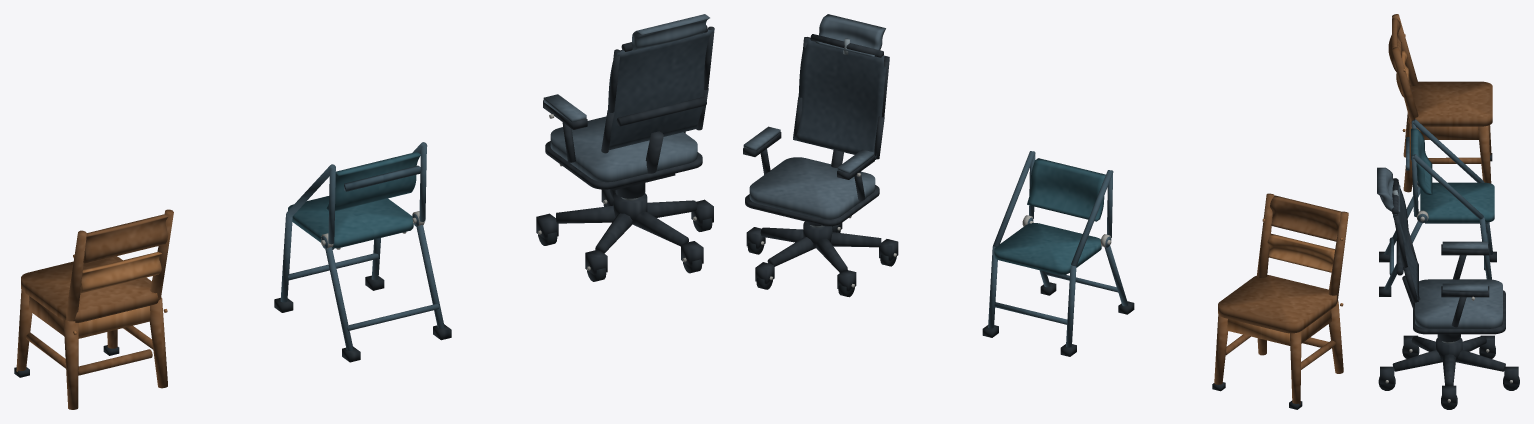
3 views of the same model, side by side, from view 1: azimuth 30°, elevation 25°; view 2: azimuth 150°, elevation 25°; view 3: azimuth 270°, elevation 25° (orthographic). The views are drawn at different scales.
Parts seen in each view (by area): view 1: OFFICE_VIS_Office_BreathableBack_OfficeMesh, OFFICE_VIS_Office_SeatCushion_OfficeFabric, DINING_VIS_Dining_ContouredSeat_WalnutTimber, FOLDING_VIS_Fold_PressedSeat_FoldSeatVinyl, OFFICE_VIS_Office_BaseSpoke_DarkPolymer, FOLDING_VIS_Fold_BackCushion_FoldSeatVinyl, DINING_VIS_Dining_Upper_Backrest_WalnutTimber, DINING_VIS_Dining_RearLeg_WalnutTimber, OFFICE_VIS_Office_CasterFork_DarkPolymer, DINING_VIS_Dining_Lower_Backrest_PaleWoodEdge, DINING_VIS_Dining_BackStile_WalnutTimber, FOLDING_VIS_Fold_RearLeg_PowderBlueSteel (+13 smaller); view 2: OFFICE_VIS_Office_BreathableBack_OfficeMesh, OFFICE_VIS_Office_SeatCushion_OfficeFabric, DINING_VIS_Dining_ContouredSeat_WalnutTimber, FOLDING_VIS_Fold_PressedSeat_FoldSeatVinyl, FOLDING_VIS_Fold_BackCushion_FoldSeatVinyl, OFFICE_VIS_Office_BaseSpoke_DarkPolymer, DINING_VIS_Dining_Upper_Backrest_WalnutTimber, OFFICE_VIS_Office_Headrest_OfficeFabric, DINING_VIS_Dining_Lower_Backrest_PaleWoodEdge, DINING_VIS_Dining_BackStile_WalnutTimber, DINING_VIS_Dining_FrontLeg_WalnutTimber, OFFICE_VIS_Office_CasterFork_DarkPolymer (+8 smaller); view 3: DINING_VIS_Dining_ContouredSeat_WalnutTimber, OFFICE_VIS_Office_SeatCushion_OfficeFabric, FOLDING_VIS_Fold_PressedSeat_FoldSeatVinyl, OFFICE_VIS_Office_BaseSpoke_DarkPolymer, OFFICE_VIS_Office_CasterFork_DarkPolymer, DINING_VIS_Dining_BackStile_WalnutTimber, FOLDING_VIS_Fold_MainBackTube_PowderBlueSteel, OFFICE_VIS_Office_ArmrestPadding_OfficeFabric, OFFICE_VIS_Office_BreathableBack_OfficeMesh, FOLDING_VIS_Fold_BackCushion_FoldSeatVinyl, OFFICE_VIS_Office_PolymerSeatShell_DarkPolymer, DINING_VIS_Dining_SeatApron_Long_WalnutTimber (+19 smaller).
Boxes of the visible parts, x1,y1,x2,y2 form: OFFICE_VIS_Office_BreathableBack_OfficeMesh: (608, 29, 714, 150); OFFICE_VIS_Office_SeatCushion_OfficeFabric: (550, 116, 697, 182); DINING_VIS_Dining_ContouredSeat_WalnutTimber: (21, 256, 158, 322); FOLDING_VIS_Fold_PressedSeat_FoldSeatVinyl: (288, 196, 413, 248); OFFICE_VIS_Office_BaseSpoke_DarkPolymer: (556, 189, 697, 253); FOLDING_VIS_Fold_BackCushion_FoldSeatVinyl: (326, 152, 420, 211); DINING_VIS_Dining_Upper_Backrest_WalnutTimber: (83, 214, 168, 263); DINING_VIS_Dining_RearLeg_WalnutTimber: (63, 297, 167, 409); OFFICE_VIS_Office_CasterFork_DarkPolymer: (536, 189, 713, 275); DINING_VIS_Dining_Lower_Backrest_PaleWoodEdge: (80, 252, 161, 293); DINING_VIS_Dining_BackStile_WalnutTimber: (66, 209, 173, 321); FOLDING_VIS_Fold_RearLeg_PowderBlueSteel: (325, 225, 444, 350); OFFICE_VIS_Office_BreathableBack_OfficeMesh: (793, 37, 889, 159); OFFICE_VIS_Office_SeatCushion_OfficeFabric: (749, 157, 875, 219); DINING_VIS_Dining_ContouredSeat_WalnutTimber: (1218, 275, 1336, 333); FOLDING_VIS_Fold_PressedSeat_FoldSeatVinyl: (994, 223, 1101, 274); FOLDING_VIS_Fold_BackCushion_FoldSeatVinyl: (1027, 158, 1105, 221); OFFICE_VIS_Office_BaseSpoke_DarkPolymer: (760, 226, 881, 272); DINING_VIS_Dining_Upper_Backrest_WalnutTimber: (1270, 195, 1341, 241); OFFICE_VIS_Office_Headrest_OfficeFabric: (815, 14, 885, 57); DINING_VIS_Dining_Lower_Backrest_PaleWoodEdge: (1267, 233, 1334, 272); DINING_VIS_Dining_BackStile_WalnutTimber: (1257, 193, 1348, 302); DINING_VIS_Dining_FrontLeg_WalnutTimber: (1214, 315, 1301, 404); OFFICE_VIS_Office_CasterFork_DarkPolymer: (746, 223, 898, 291); DINING_VIS_Dining_ContouredSeat_WalnutTimber: (1408, 81, 1492, 126); OFFICE_VIS_Office_SeatCushion_OfficeFabric: (1415, 279, 1502, 328); FOLDING_VIS_Fold_PressedSeat_FoldSeatVinyl: (1420, 182, 1494, 222); OFFICE_VIS_Office_BaseSpoke_DarkPolymer: (1392, 336, 1505, 385); OFFICE_VIS_Office_CasterFork_DarkPolymer: (1380, 335, 1518, 403); DINING_VIS_Dining_BackStile_WalnutTimber: (1392, 14, 1418, 123); FOLDING_VIS_Fold_MainBackTube_PowderBlueSteel: (1413, 119, 1483, 219); OFFICE_VIS_Office_ArmrestPadding_OfficeFabric: (1442, 241, 1487, 292); OFFICE_VIS_Office_BreathableBack_OfficeMesh: (1393, 188, 1418, 301); FOLDING_VIS_Fold_BackCushion_FoldSeatVinyl: (1411, 128, 1432, 194); OFFICE_VIS_Office_PolymerSeatShell_DarkPolymer: (1413, 290, 1505, 334); DINING_VIS_Dining_SeatApron_Long_WalnutTimber: (1420, 126, 1479, 139).
Bounding box in the file's own units: 3.29 × 1.21 × 0.7761.
11 materials, 11 textured.
